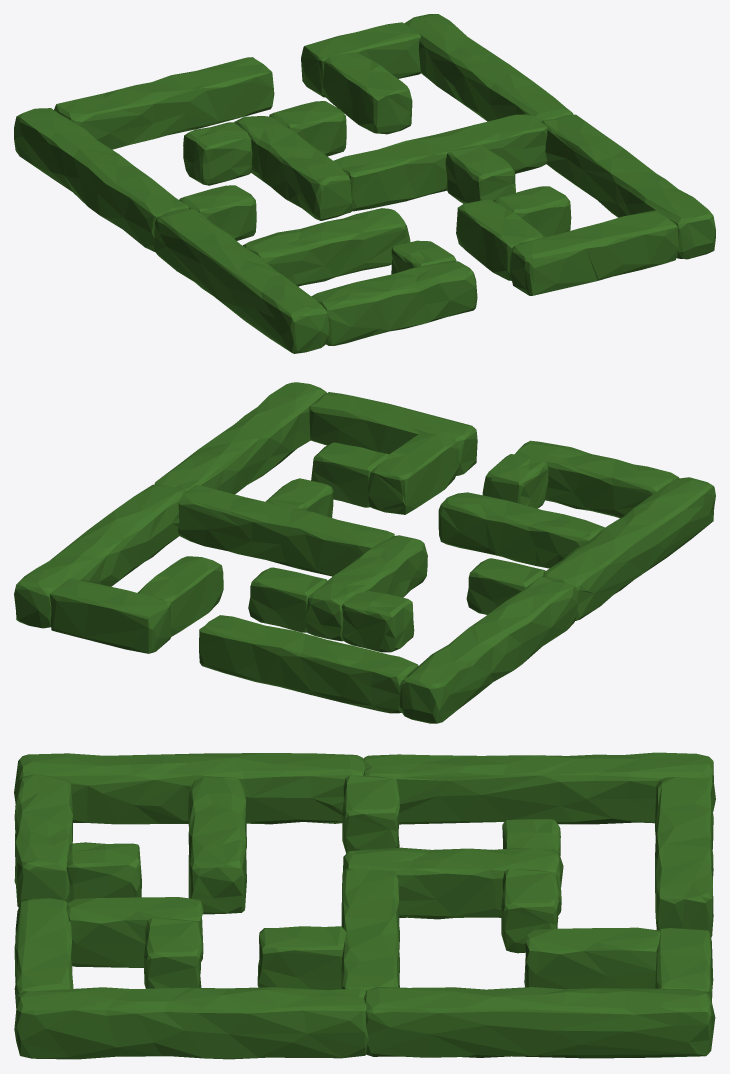
Rendered from Maze.fbx.
3 views of the same model, one above another, from view 1: azimuth 30°, elevation 25°; view 2: azimuth 150°, elevation 25°; view 3: azimuth 270°, elevation 25° (orthographic). The views are drawn at different scales.
Visible parts, largest first — view 1: Maze_geo; view 2: Maze_geo; view 3: Maze_geo.
Part boxes in pixels (x1,y1,x2,y2): Maze_geo: (14, 14, 715, 353); Maze_geo: (14, 382, 715, 723); Maze_geo: (14, 752, 715, 1059).
Bounding box in the file's own units: 2753 × 284 × 3133.
